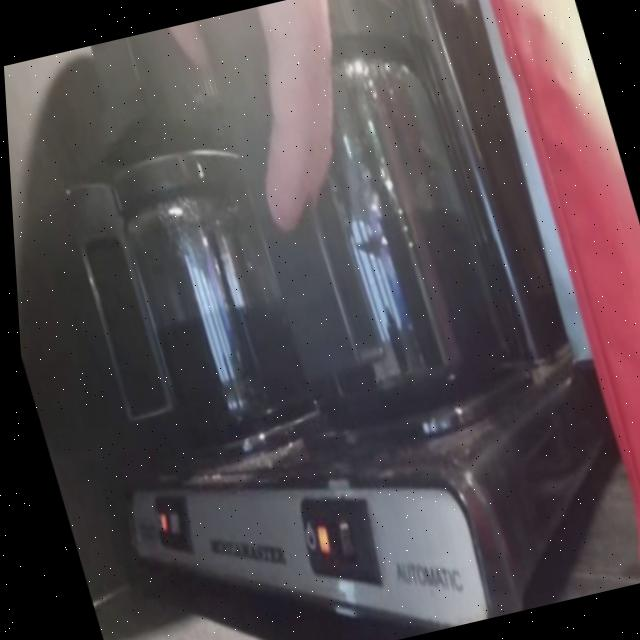coffee: (191, 0, 531, 438), (78, 114, 335, 454)
